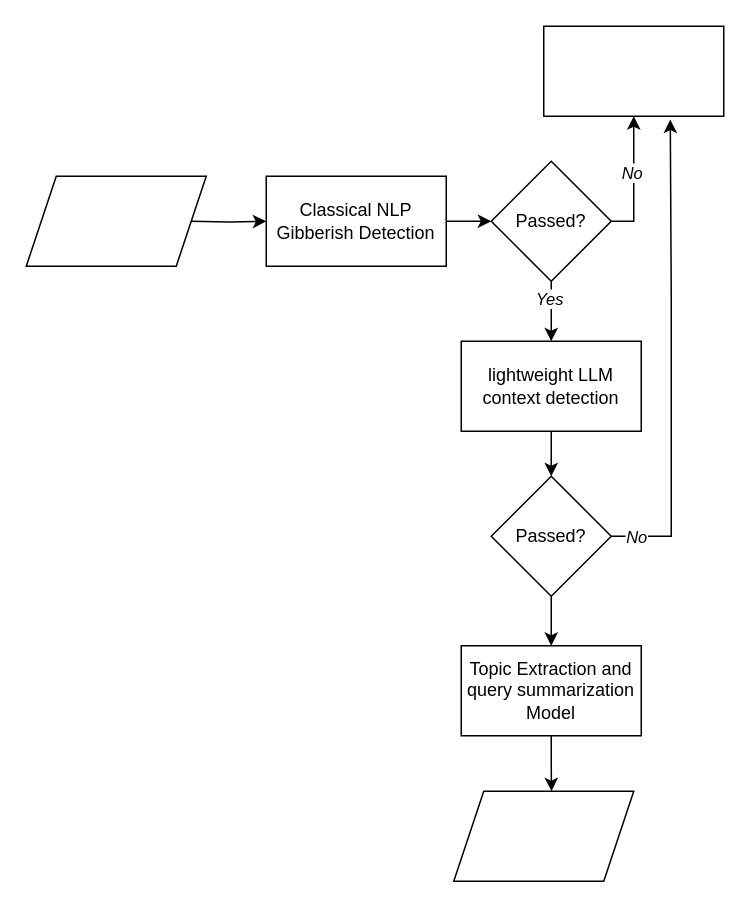
The diagram is 750 pixels wide and 908 high, and some of its shapes have lost their labels. The shapes that lost their labels are listed below. From the top down, each one's centre as x and y in pixels, then its label:
At (633,70): "Shows Error Message".
At (115,220): "Original Text".
At (543,835): "Refined User Query".
